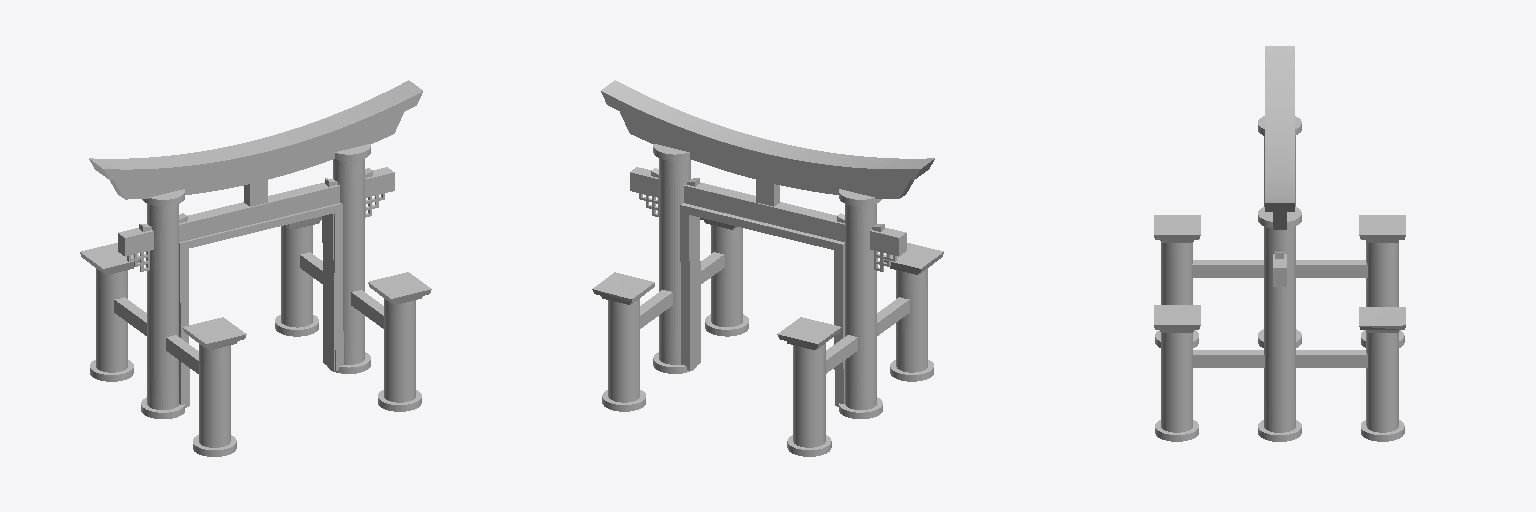
File: ArcoTorii.obj
The picture shows the model from 3 angles: view 1: azimuth 30°, elevation 25°; view 2: azimuth 150°, elevation 25°; view 3: azimuth 270°, elevation 25°; orthographic projection.
Visible parts, largest first — view 1: ArcoTorii; view 2: ArcoTorii; view 3: ArcoTorii.
Part boxes in pixels (x1,y1,x2,y2): ArcoTorii: (80,80,431,456); ArcoTorii: (592,80,943,456); ArcoTorii: (1154,46,1405,441).
Bounding box in the file's own units: 5.78 × 4.53 × 3.95.